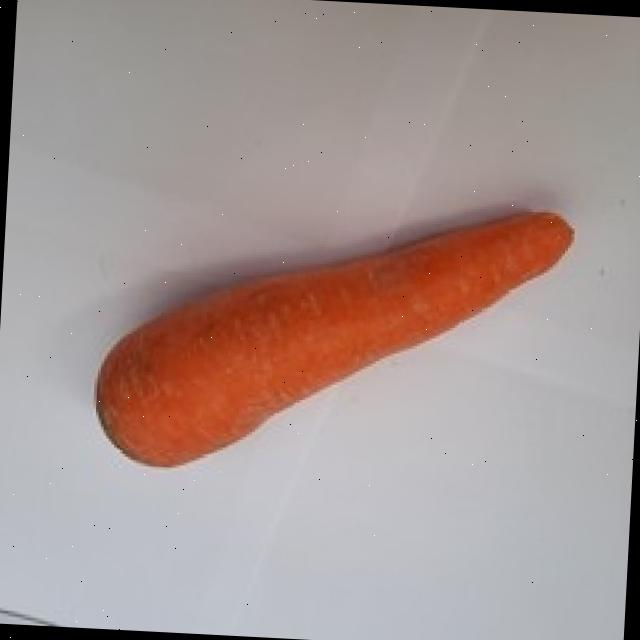carrot: (100, 219, 576, 470)
